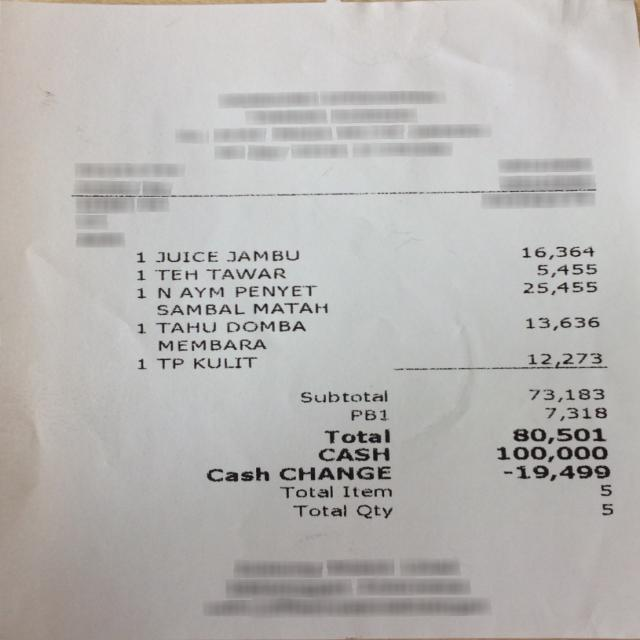text: (496, 446, 606, 460), (279, 466, 389, 480), (502, 465, 608, 479), (512, 428, 605, 443), (157, 338, 265, 350), (526, 352, 606, 366), (300, 389, 385, 402), (234, 284, 316, 297), (155, 303, 242, 315), (318, 448, 391, 462), (324, 428, 390, 443), (528, 388, 602, 401), (206, 267, 285, 279), (536, 262, 595, 277), (544, 406, 606, 420), (205, 467, 267, 481), (522, 282, 594, 294), (526, 317, 598, 329), (225, 320, 303, 331), (522, 246, 592, 258), (226, 250, 301, 261), (155, 250, 219, 262), (192, 356, 256, 368), (253, 302, 325, 312), (155, 321, 214, 332), (292, 504, 346, 516), (154, 268, 198, 281), (280, 486, 332, 497), (342, 485, 390, 496), (177, 286, 223, 297), (355, 504, 390, 517), (349, 409, 387, 420), (156, 358, 183, 368), (156, 285, 171, 298), (598, 483, 612, 496), (600, 502, 612, 516), (134, 268, 146, 281), (134, 358, 147, 370), (134, 322, 146, 334), (135, 287, 148, 298), (135, 251, 146, 263)
